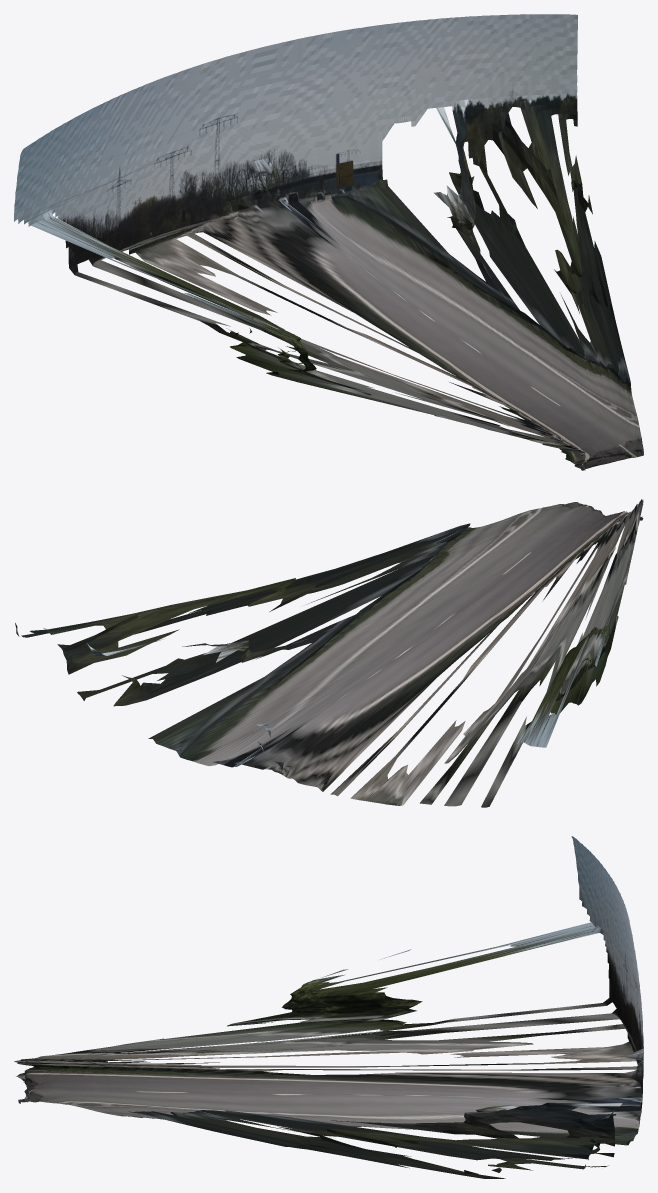
3 views of the same model, one above another, from view 1: azimuth 30°, elevation 25°; view 2: azimuth 150°, elevation 25°; view 3: azimuth 270°, elevation 25° (orthographic). The views are drawn at different scales.
Visible parts, largest first — view 1: defaultobject; view 2: defaultobject; view 3: defaultobject.
Boxes of the visible parts, left/top/right/bottom form: defaultobject: left=14, top=14, right=643, bottom=470; defaultobject: left=15, top=499, right=643, bottom=807; defaultobject: left=14, top=836, right=643, bottom=1178.
Bounding box in the file's own units: 41.05 × 12.36 × 44.95.
1 material, 1 textured.
